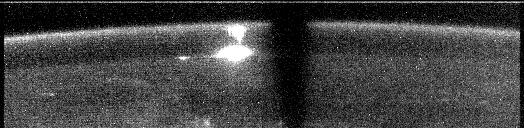positive: (223, 23, 248, 43)
